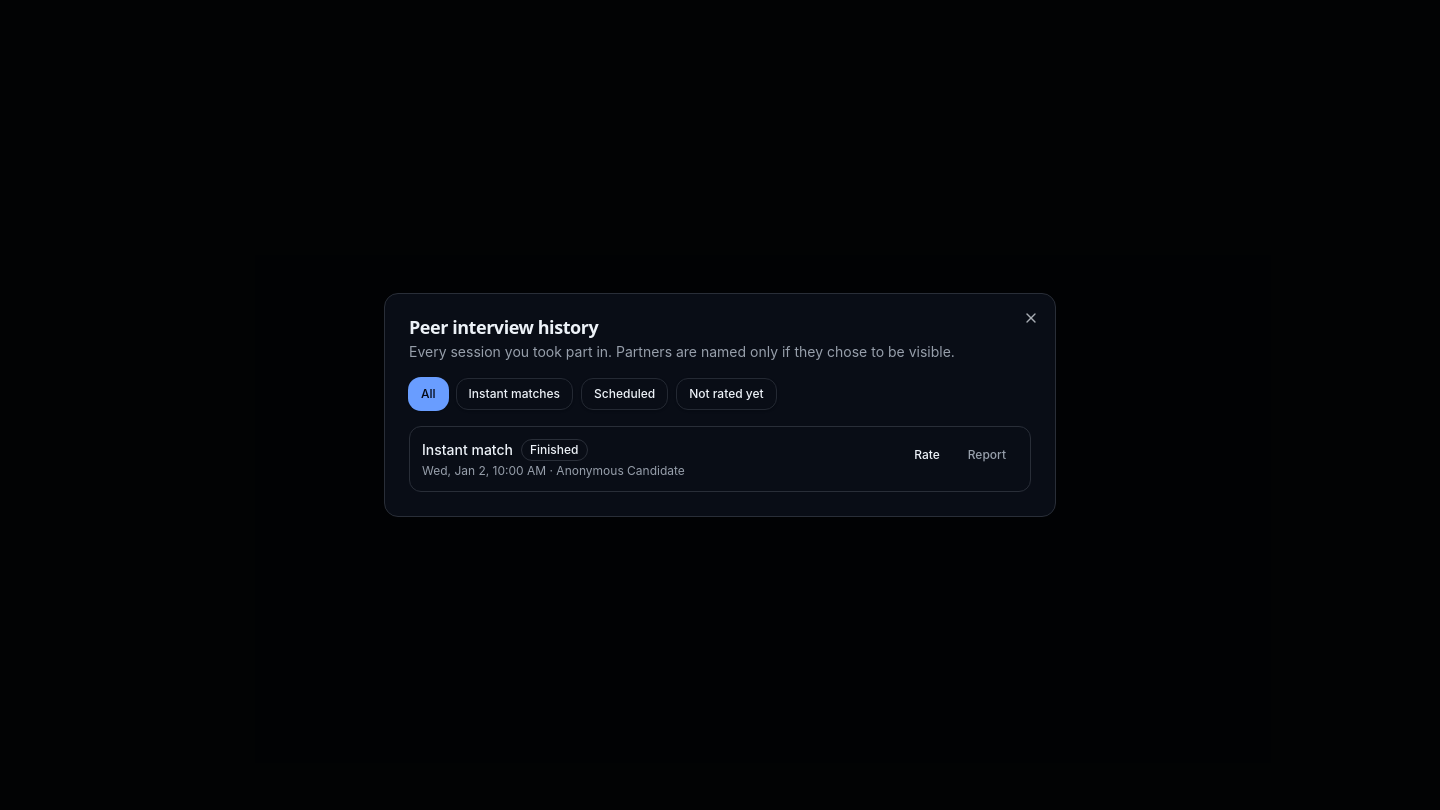
Test: PeerHistoryDialog › filters, and says so when nothing matches or there is no history
Later steps or results of the test are not shown.
Check: the text "Instant match" is shown, box [422,440,513,460]
Click the button "Scheduled" at (625, 394), box [581,378,668,410]
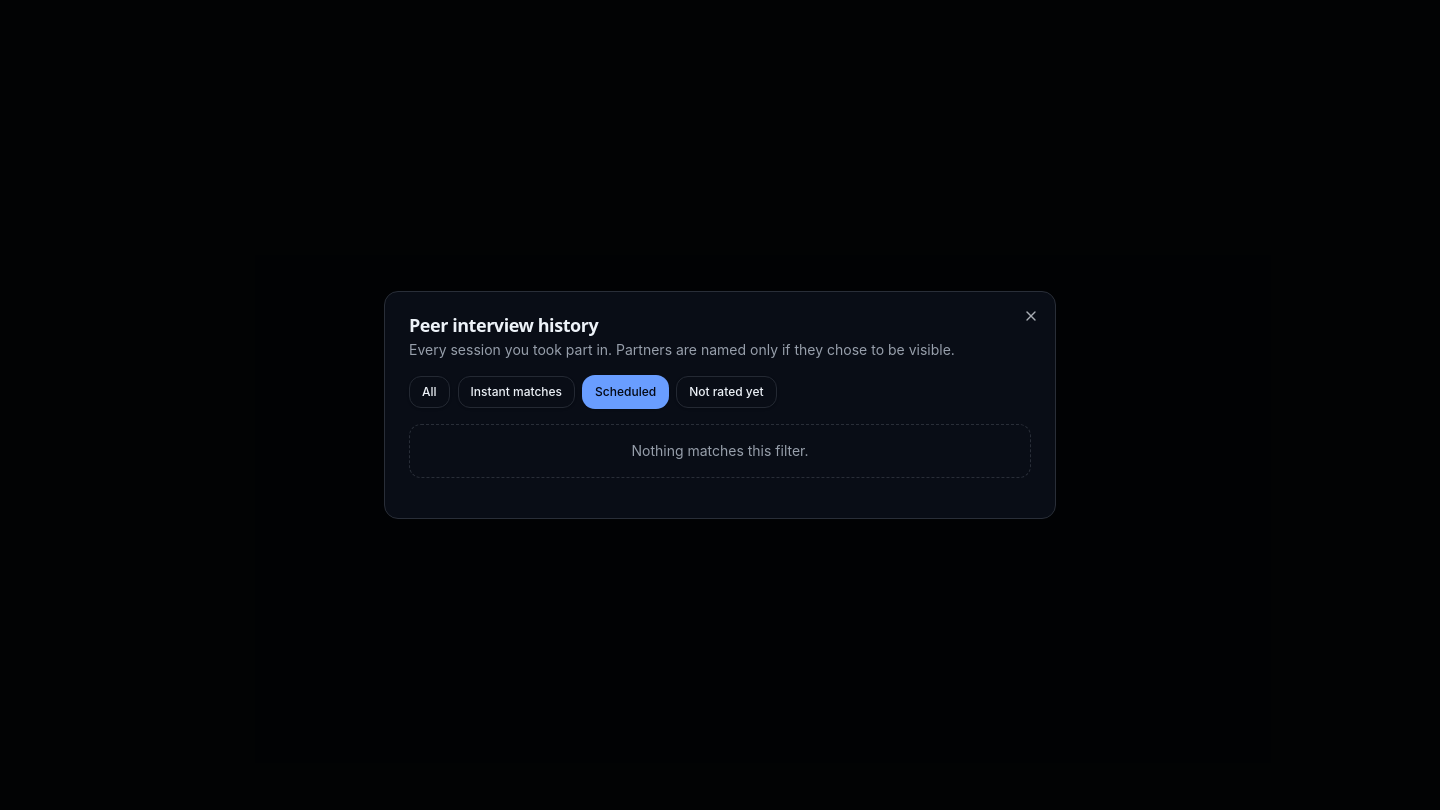
Check: the text "Nothing matches this filter." is shown, box [409,424,1031,478]
